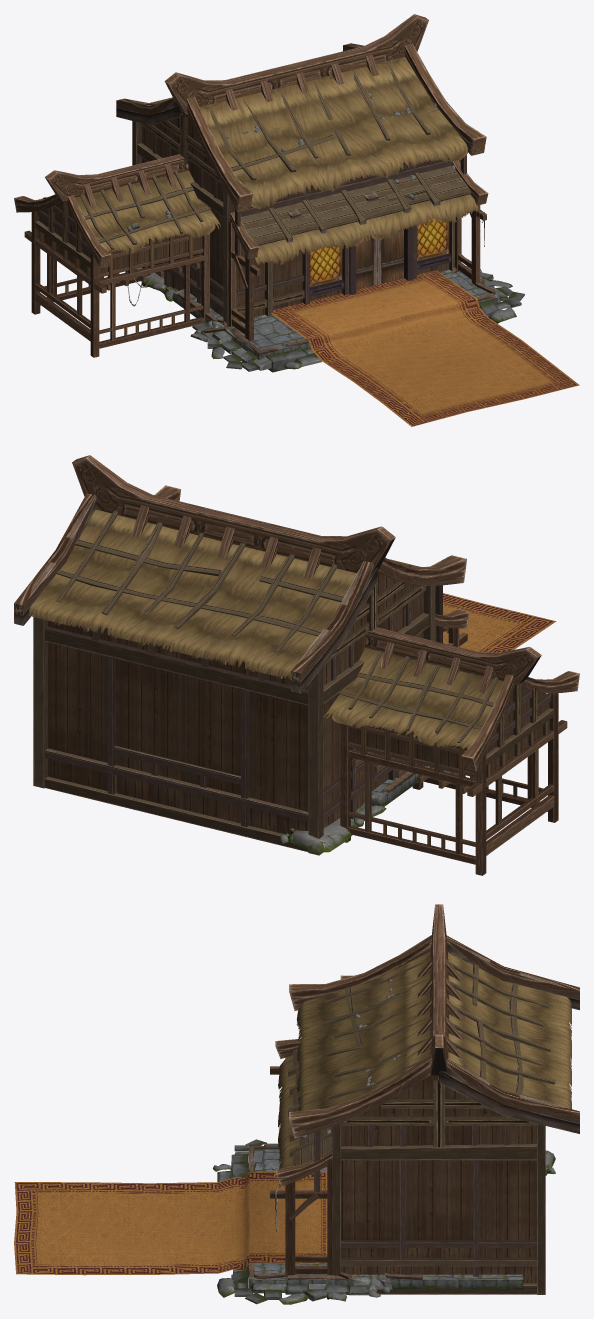
The model's file is room002.FBX.
The picture shows the model from 3 angles, top to bottom: view 1: azimuth 30°, elevation 25°; view 2: azimuth 150°, elevation 25°; view 3: azimuth 270°, elevation 25°; orthographic projection. The views are drawn at different scales.
Parts seen in each view (by area): view 1: pds_building_bigbuilding001, Plane001, 005; view 2: pds_building_bigbuilding001, Plane001, 005; view 3: pds_building_bigbuilding001, Plane001, 005.
Boxes of the visible parts, x1,y1,x2,y2 form: pds_building_bigbuilding001: (14,14,488,357); Plane001: (271,270,579,426); 005: (127,93,524,372); pds_building_bigbuilding001: (14,455,579,875); Plane001: (443,593,555,652); 005: (280,765,451,852); pds_building_bigbuilding001: (270,904,579,1294); Plane001: (14,1171,327,1275); 005: (213,979,555,1304).
Size of the model in its own units: 12.55 by 7.06 by 13.8.
